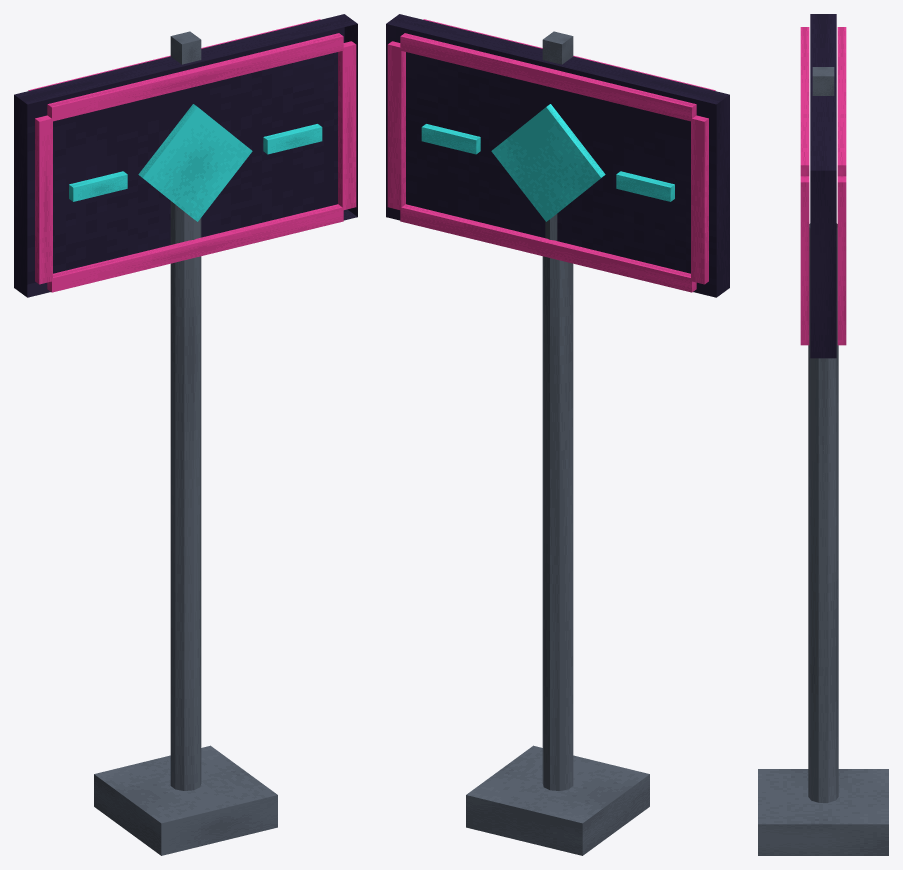
The model's file is prop_neon_sign.glb.
The picture shows the model from 3 angles, left to right: view 1: azimuth 30°, elevation 25°; view 2: azimuth 150°, elevation 25°; view 3: azimuth 270°, elevation 25°; orthographic projection. The views are drawn at different scales.
Parts seen in each view (by area): view 1: prop_neon_sign; view 2: prop_neon_sign; view 3: prop_neon_sign.
Part boxes in pixels (left/top/right/bottom): prop_neon_sign: left=14, top=14, right=357, bottom=855; prop_neon_sign: left=386, top=14, right=729, bottom=855; prop_neon_sign: left=758, top=14, right=888, bottom=855.
Size of the model in its own units: 1.7 by 3.83 by 0.6.
1 material, 1 textured.
